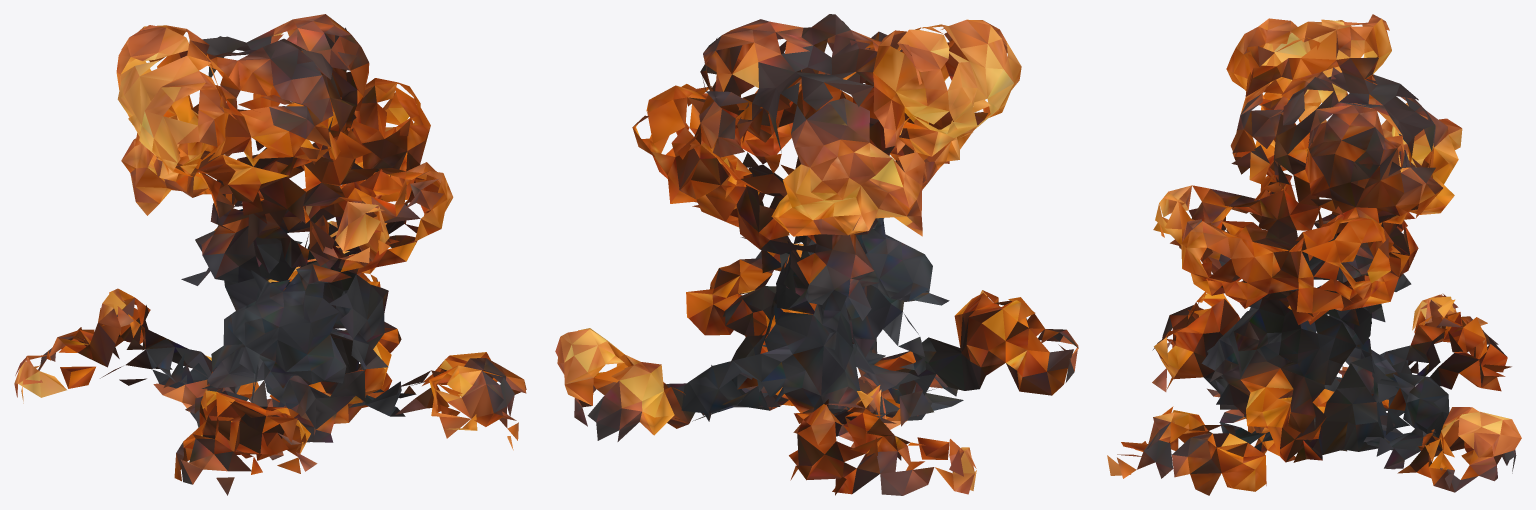
Rendered from TERRENO5.glb.
3 renders of one model, left to right at view 1: azimuth 30°, elevation 25°; view 2: azimuth 150°, elevation 25°; view 3: azimuth 270°, elevation 25°, orthographic. The views are drawn at different scales.
Visible parts, largest first — view 1: Object_6, Object_10, Object_8, Object_14, Object_16, Object_12, Object_18, Object_22; view 2: Object_6, Object_8, Object_10, Object_18, Object_12, Object_20, Object_22, Object_16, Object_14; view 3: Object_6, Object_8, Object_10, Object_16, Object_14, Object_22, Object_12, Object_18, Object_20.
Boxes of the visible parts, <box> form: Object_6: <box>116,14,453,281</box>; Object_10: <box>121,25,443,420</box>; Object_8: <box>121,36,417,460</box>; Object_14: <box>60,305,518,440</box>; Object_16: <box>180,352,526,484</box>; Object_12: <box>14,288,513,450</box>; Object_18: <box>174,390,314,495</box>; Object_22: <box>15,221,380,403</box>; Object_6: <box>642,14,1021,314</box>; Object_8: <box>681,82,971,441</box>; Object_10: <box>632,27,990,447</box>; Object_18: <box>874,293,1073,403</box>; Object_12: <box>692,389,974,495</box>; Object_20: <box>578,328,780,441</box>; Object_22: <box>555,329,976,490</box>; Object_16: <box>686,258,1078,382</box>; Object_14: <box>755,243,949,495</box>; Object_6: <box>1155,18,1442,344</box>; Object_8: <box>1159,96,1462,462</box>; Object_10: <box>1153,14,1422,462</box>; Object_16: <box>1117,291,1272,495</box>; Object_14: <box>1117,310,1511,478</box>; Object_22: <box>1324,293,1521,492</box>; Object_12: <box>1107,294,1507,475</box>; Object_18: <box>1152,293,1240,409</box>; Object_20: <box>1363,407,1516,488</box>.
Bounding box in the file's own units: 12.63 × 12.49 × 12.6.
Materials: 1 (1 with a texture image).
